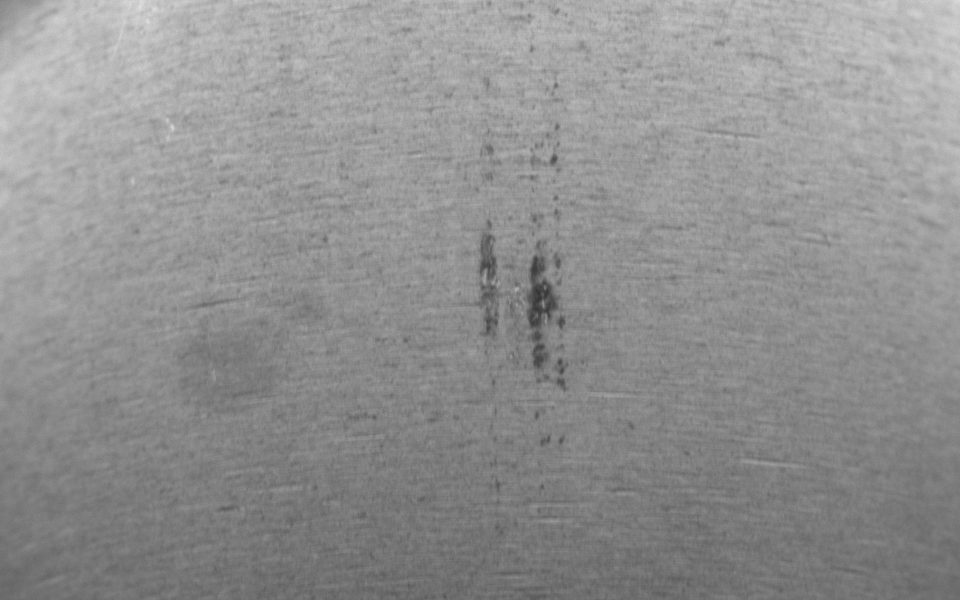black_dot: (462, 223, 622, 383)
